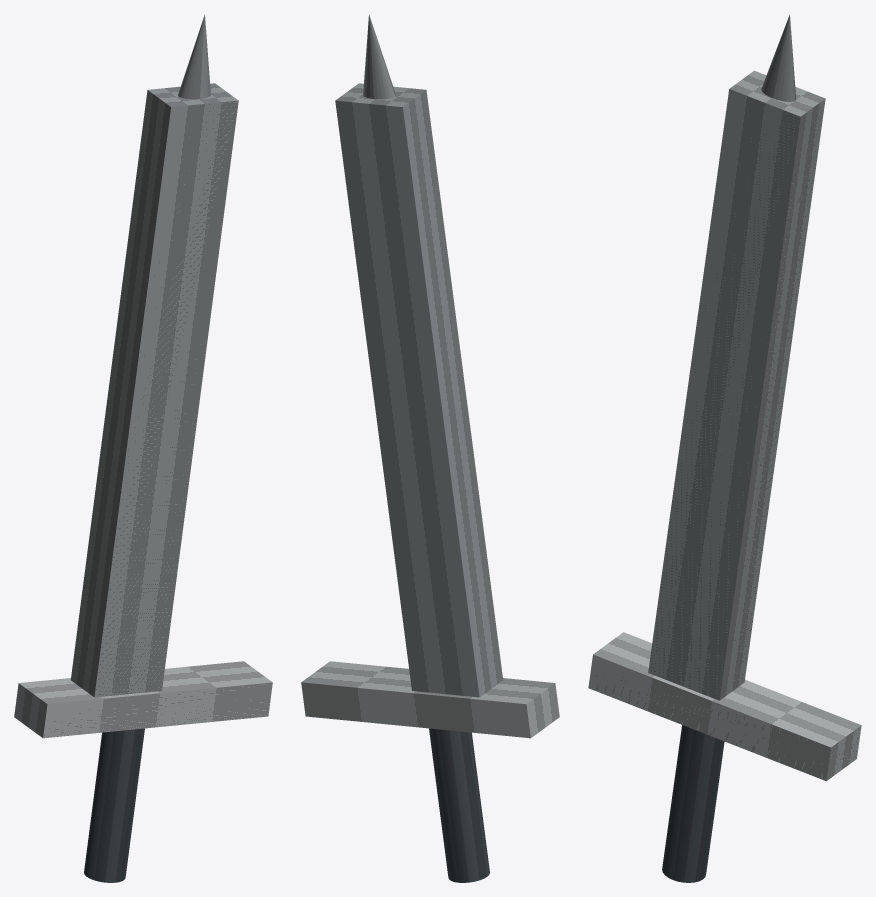
The model's file is worn_longsword.glb.
The picture shows the model from 3 angles, left to right: view 1: azimuth 30°, elevation 25°; view 2: azimuth 150°, elevation 25°; view 3: azimuth 330°, elevation 25°; orthographic projection. The views are drawn at different scales.
Visible parts, largest first — view 1: longsword_blade, longsword_guard, longsword_grip, longsword_point; view 2: longsword_blade, longsword_guard, longsword_grip, longsword_point; view 3: longsword_blade, longsword_guard, longsword_grip, longsword_point.
Boxes of the visible parts, <box> form: longsword_blade: <box>71,83,238,697</box>; longsword_guard: <box>14,661,272,738</box>; longsword_grip: <box>84,728,144,882</box>; longsword_point: <box>178,14,210,99</box>; longsword_blade: <box>335,83,502,697</box>; longsword_guard: <box>301,661,559,738</box>; longsword_grip: <box>429,728,489,882</box>; longsword_point: <box>363,14,395,99</box>; longsword_blade: <box>648,70,825,700</box>; longsword_guard: <box>588,632,861,781</box>; longsword_grip: <box>662,725,724,882</box>; longsword_point: <box>761,14,803,203</box>.
Bounding box in the file's own units: 0.5049 × 1.76 × 0.11.
3 materials, 3 textured.
